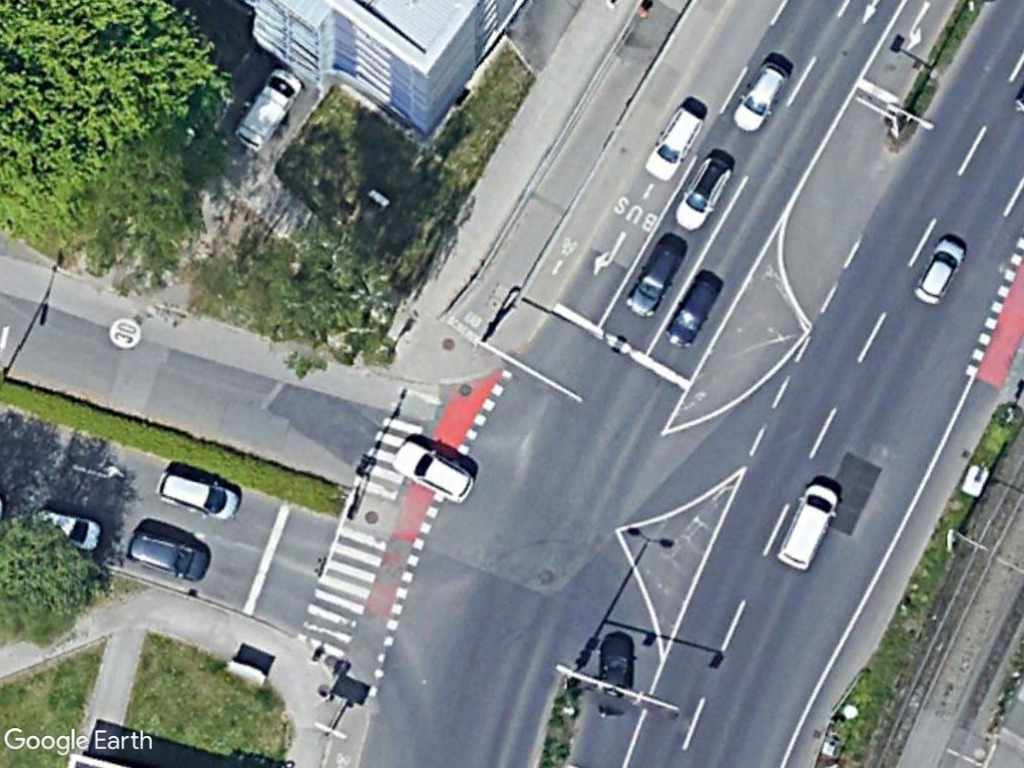car: (387, 437, 478, 506), (621, 234, 686, 318), (151, 467, 242, 524), (669, 152, 733, 232), (661, 273, 725, 351), (124, 528, 212, 584), (641, 105, 704, 183), (728, 59, 789, 134), (912, 235, 968, 306)
van: (233, 65, 304, 154), (775, 480, 840, 571)
